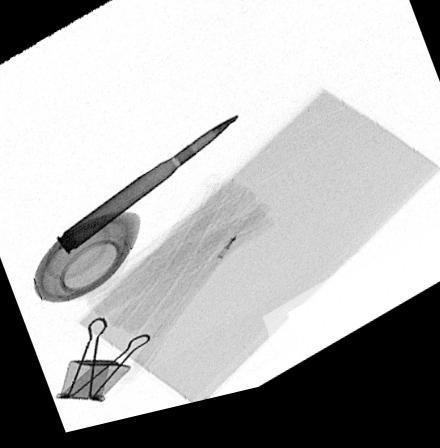Bullet: (53, 127, 239, 258)
